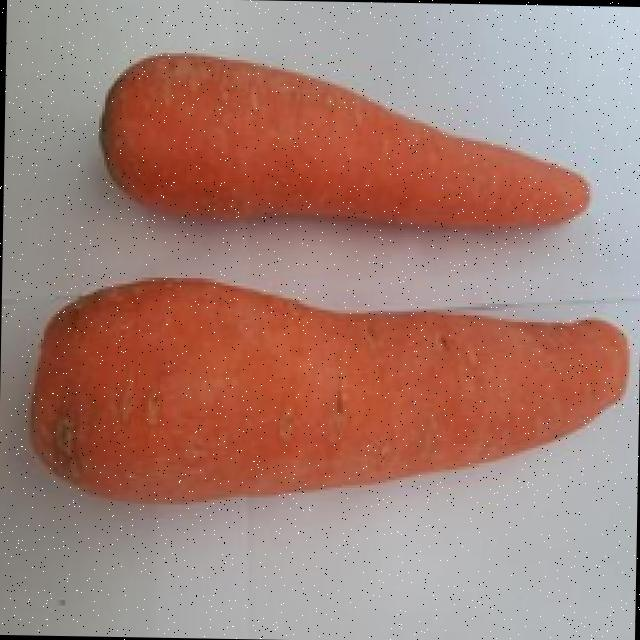carrot: (29, 279, 625, 501), (100, 54, 586, 227)
